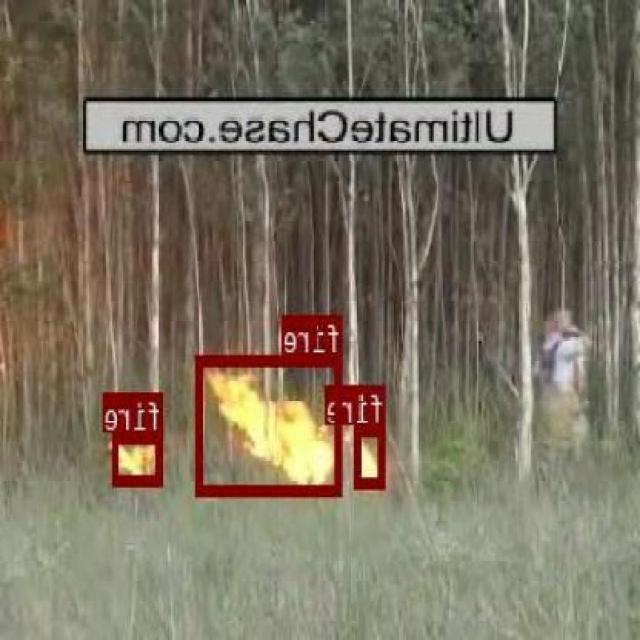Fire: (198, 355, 344, 493), (113, 431, 164, 484), (356, 423, 387, 485)
